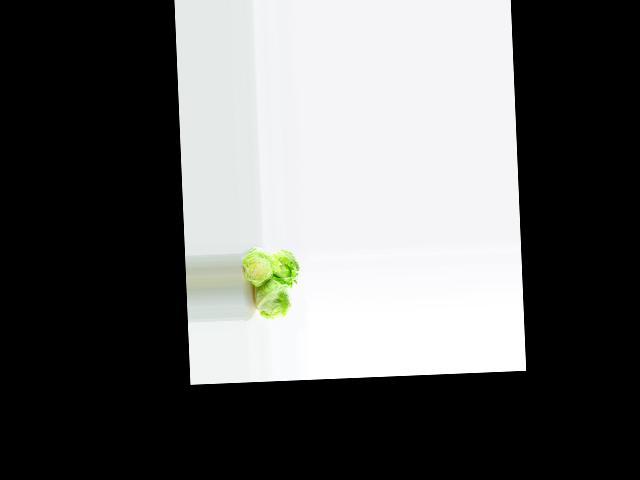lettuce: (268, 247, 303, 291)
